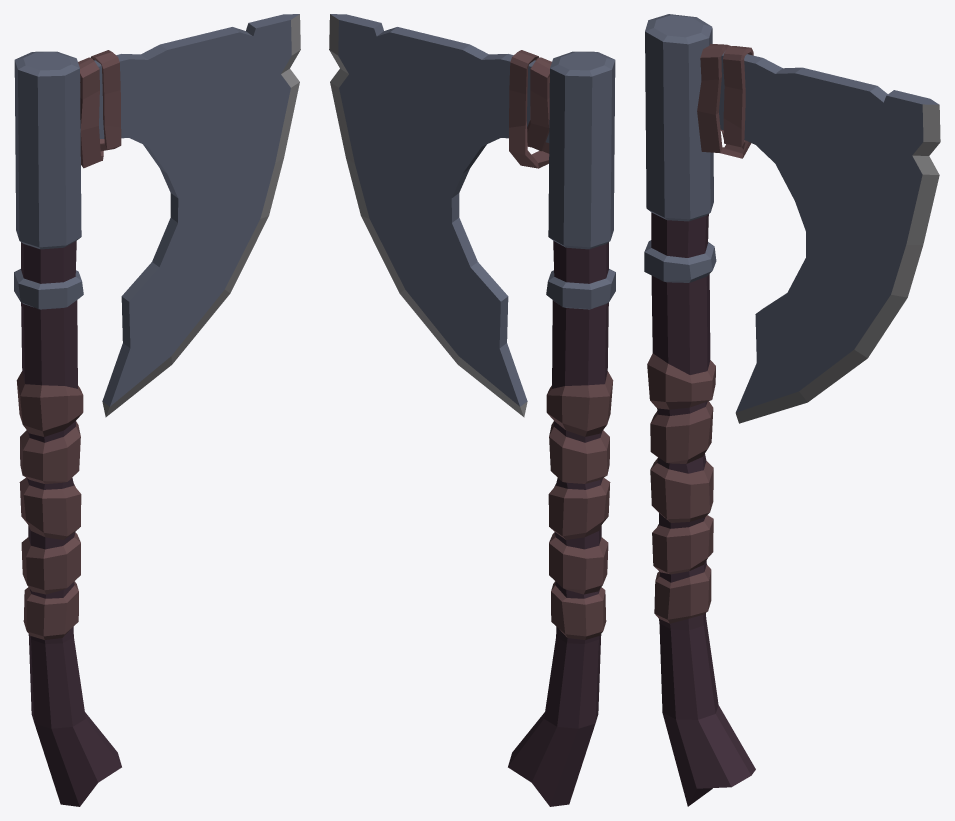
The model's file is quaternius-rpg-items-axe-small.glb.
3 renders of one model, left to right at view 1: azimuth 30°, elevation 25°; view 2: azimuth 150°, elevation 25°; view 3: azimuth 330°, elevation 25°, orthographic. The views are drawn at different scales.
Parts seen in each view (by area): view 1: Axe_small; view 2: Axe_small; view 3: Axe_small.
Part boxes in pixels (x1,y1,x2,y2): Axe_small: (14, 14, 300, 806); Axe_small: (329, 14, 615, 806); Axe_small: (644, 14, 940, 806).
Size of the model in its own units: 0.6236 by 1.57 by 0.1322.
